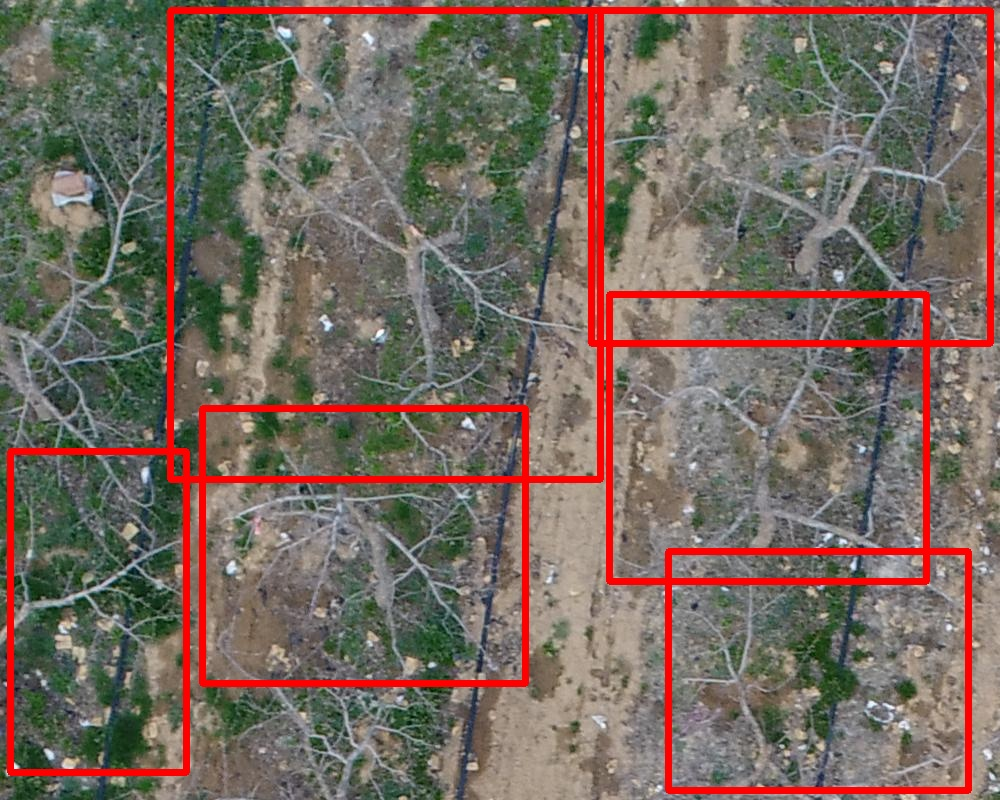apple: (170, 10, 600, 479), (591, 10, 990, 343), (609, 294, 926, 581), (202, 408, 525, 683), (668, 551, 968, 790), (10, 451, 186, 772)
